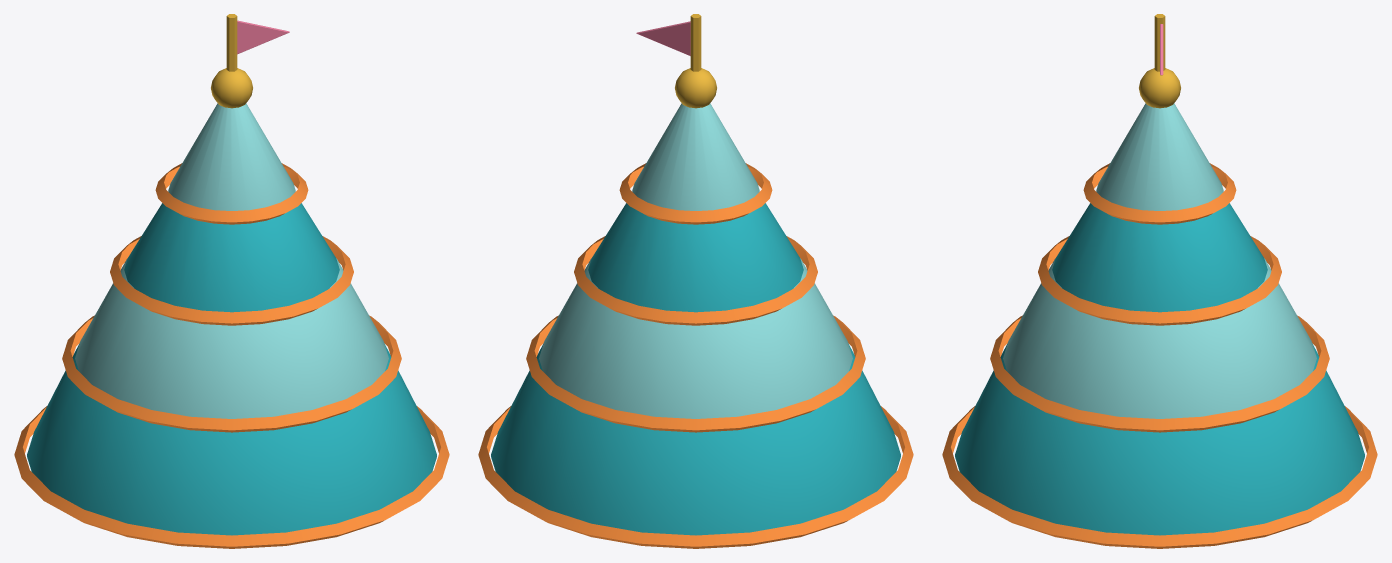
File: castelo_cone_telhado.glb
The picture shows the model from 3 angles, left to right: view 1: azimuth 30°, elevation 25°; view 2: azimuth 150°, elevation 25°; view 3: azimuth 270°, elevation 25°; orthographic projection.
Visible parts, largest first — view 1: castelo_cone_telhado; view 2: castelo_cone_telhado; view 3: castelo_cone_telhado.
Boxes of the visible parts, x1=… form: castelo_cone_telhado: x1=14, y1=14, x2=449, y2=548; castelo_cone_telhado: x1=478, y1=14, x2=913, y2=548; castelo_cone_telhado: x1=942, y1=14, x2=1377, y2=548.
Bounding box in the file's own units: 4.1 × 4.62 × 4.1.
1 material, 1 textured.
